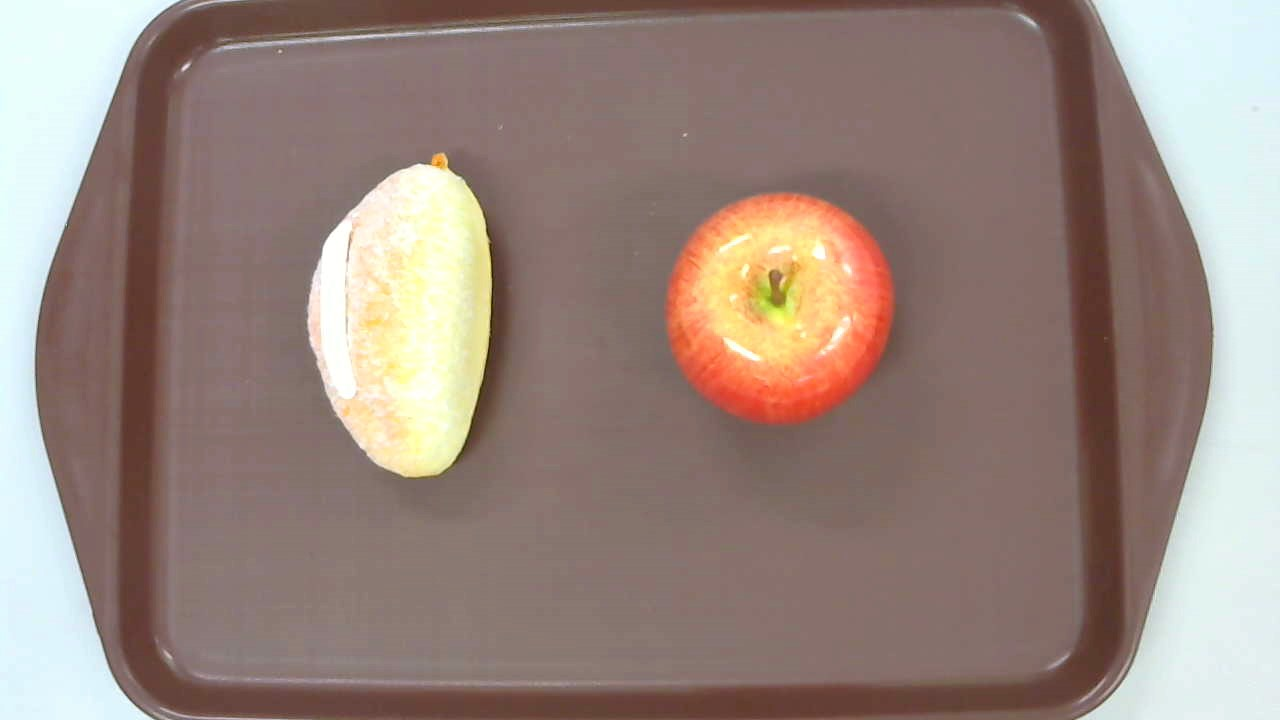coconut: (304, 152, 493, 477)
red apple: (664, 189, 895, 427)
